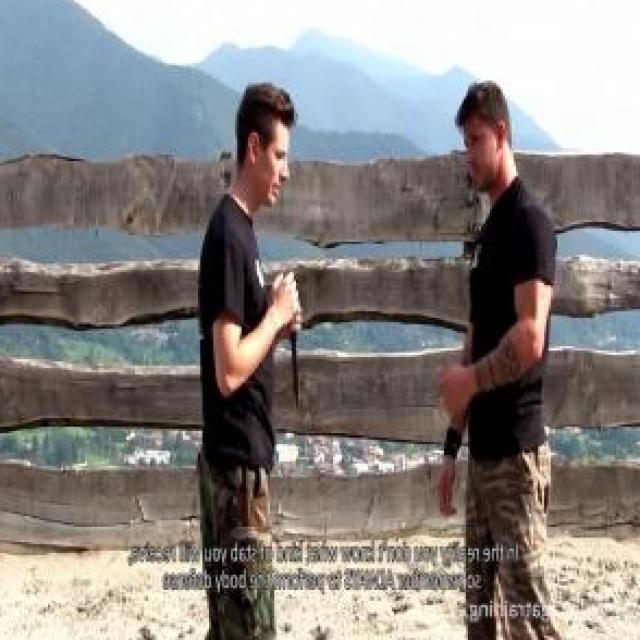knife: (278, 268, 302, 411)
